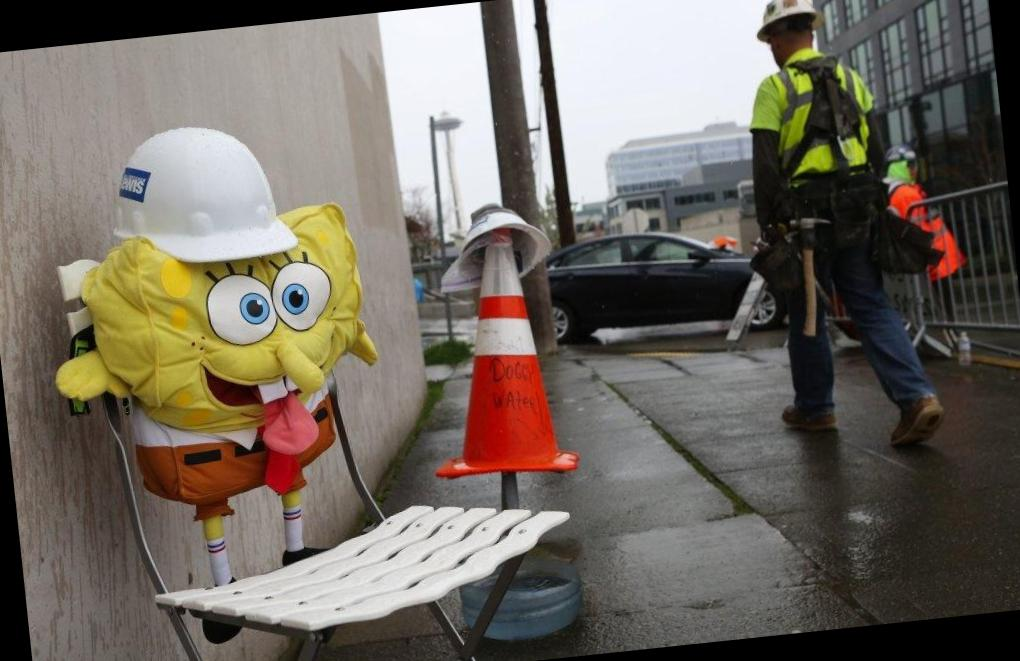Vest: (736, 49, 904, 194)
